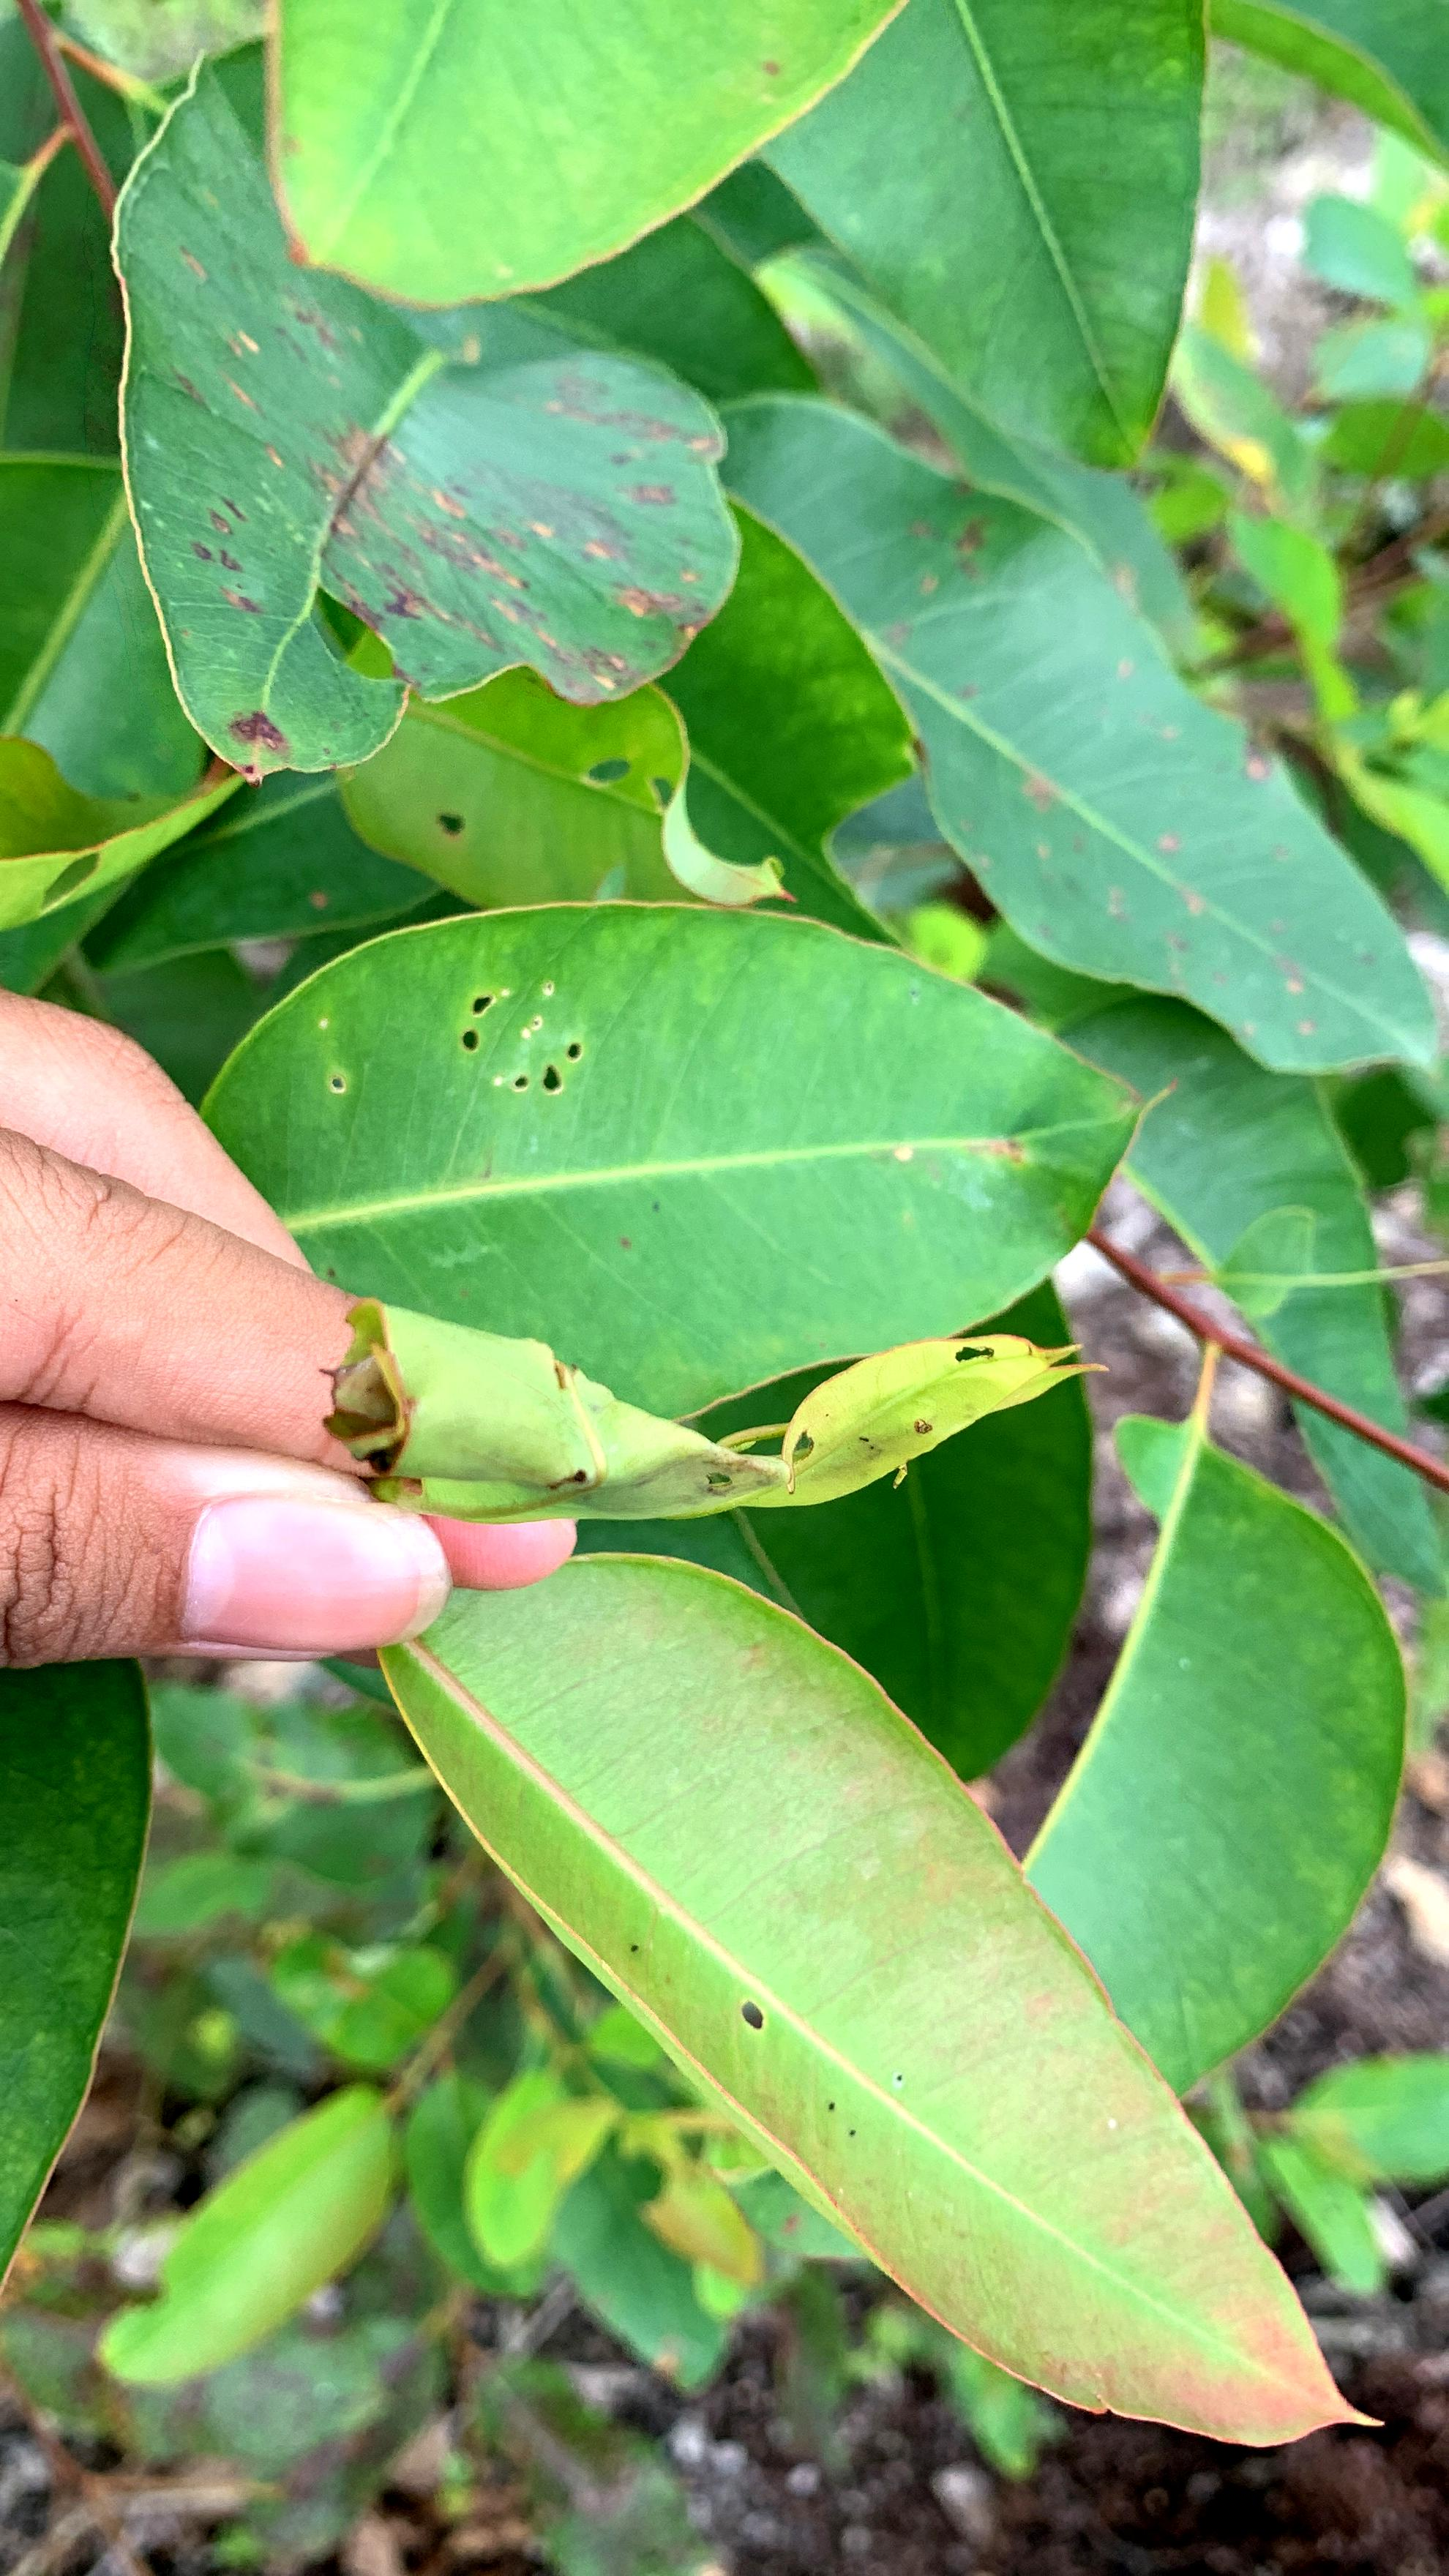Leaf Roller - Leaf: (308, 1260, 1104, 1518)
